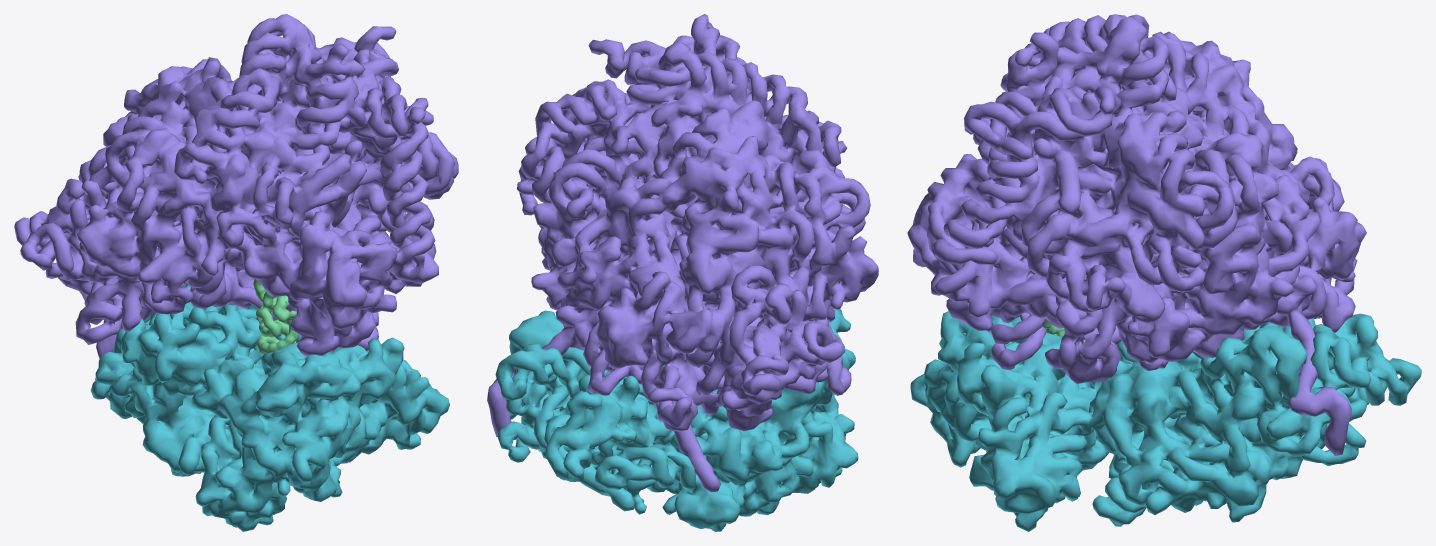
File: translation_initiation.glb
3 views of the same model, side by side, from view 1: azimuth 30°, elevation 25°; view 2: azimuth 150°, elevation 25°; view 3: azimuth 270°, elevation 25° (orthographic). The views are drawn at different scales.
Visible parts, largest first — view 1: GEO-60S, GEO-40S, GEO-Initiator-tRNA; view 2: GEO-60S, GEO-40S; view 3: GEO-60S, GEO-40S.
Part boxes in pixels (x1,y1,x2,y2): GEO-60S: [14, 14, 458, 358]; GEO-40S: [90, 285, 449, 531]; GEO-Initiator-tRNA: [253, 279, 298, 354]; GEO-60S: [487, 14, 878, 492]; GEO-40S: [495, 308, 858, 531]; GEO-60S: [907, 14, 1366, 455]; GEO-40S: [910, 311, 1421, 531].
Size of the model in its own units: 6.48 by 7.71 by 6.97.
